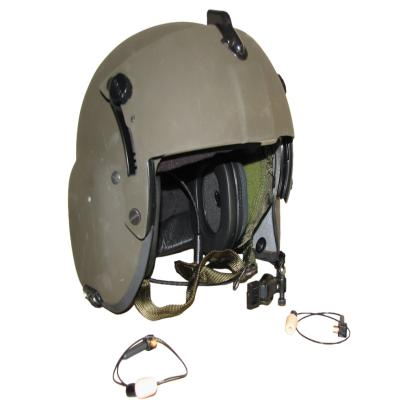Helmet: (72, 7, 297, 336)
